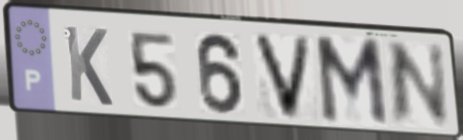5: (126, 31, 182, 111)
6: (195, 31, 245, 117)
K: (61, 22, 115, 109)
M: (311, 34, 392, 130)
N: (386, 40, 453, 129)
V: (249, 31, 316, 123)
